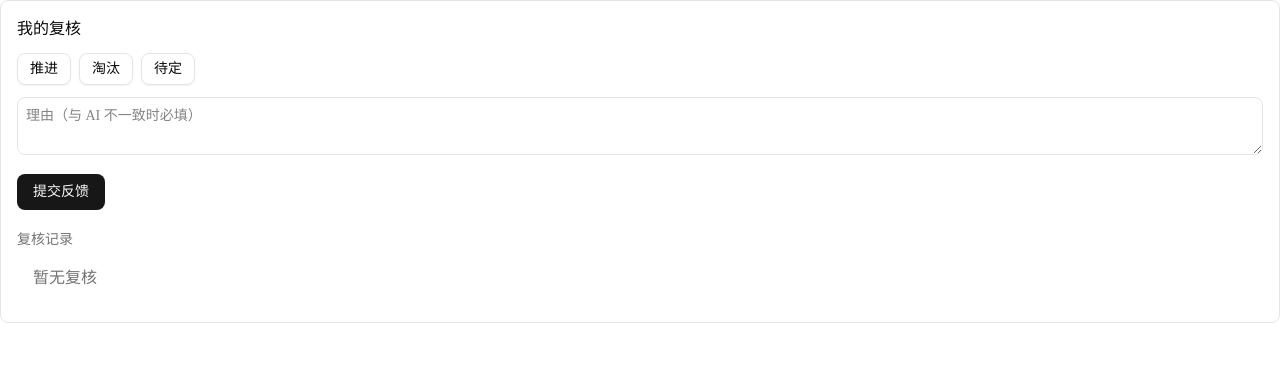
Test: FeedbackPanel › requires a reason before submitting a disagreement-capable verdict
choose reject (disagrees with AI advance) then submit without reason → blocked client-side
Click the button "淘汰" at [106, 69], box left=79, top=53, right=133, bottom=85
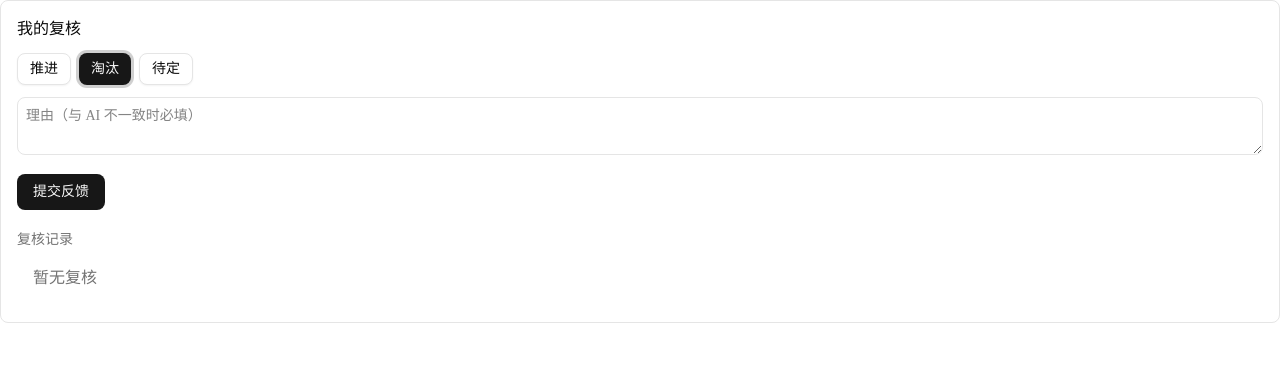
Click the button "提交反馈" at [61, 192], box left=17, top=174, right=105, bottom=210
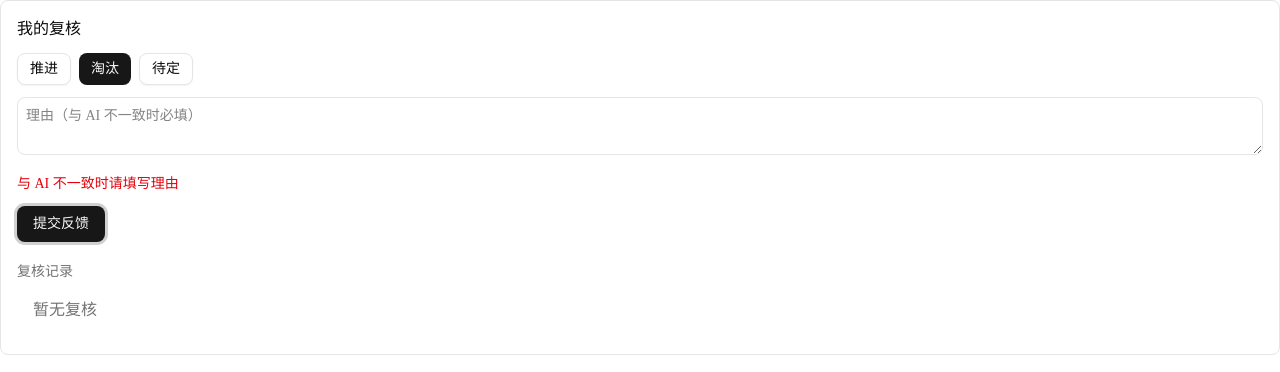
expect the text "与 AI 不一致时请填写理由" is shown: met, box left=17, top=176, right=179, bottom=191
